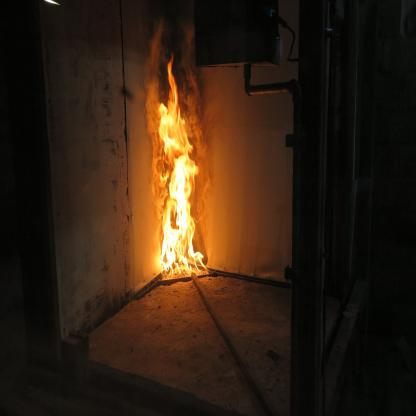fire: (158, 53, 209, 280)
smoke: (140, 11, 221, 285)
